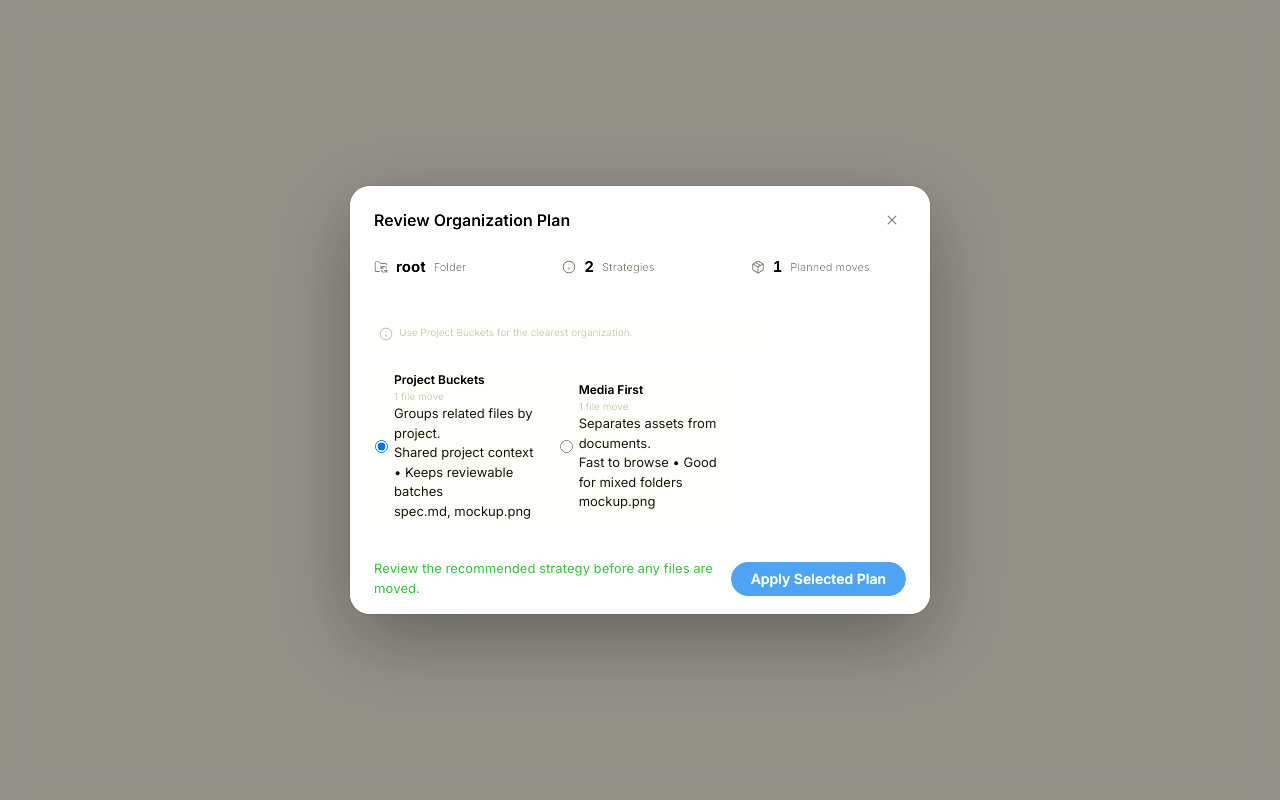
Test: OrganizeModal › surfaces partial apply results with warnings instead of claiming full success
Expected: the text "Project Buckets" is shown, [394,372,485,387]
Click the button "Apply Selected Plan" at {"x": 818, "y": 579}, box [731,562,906,596]
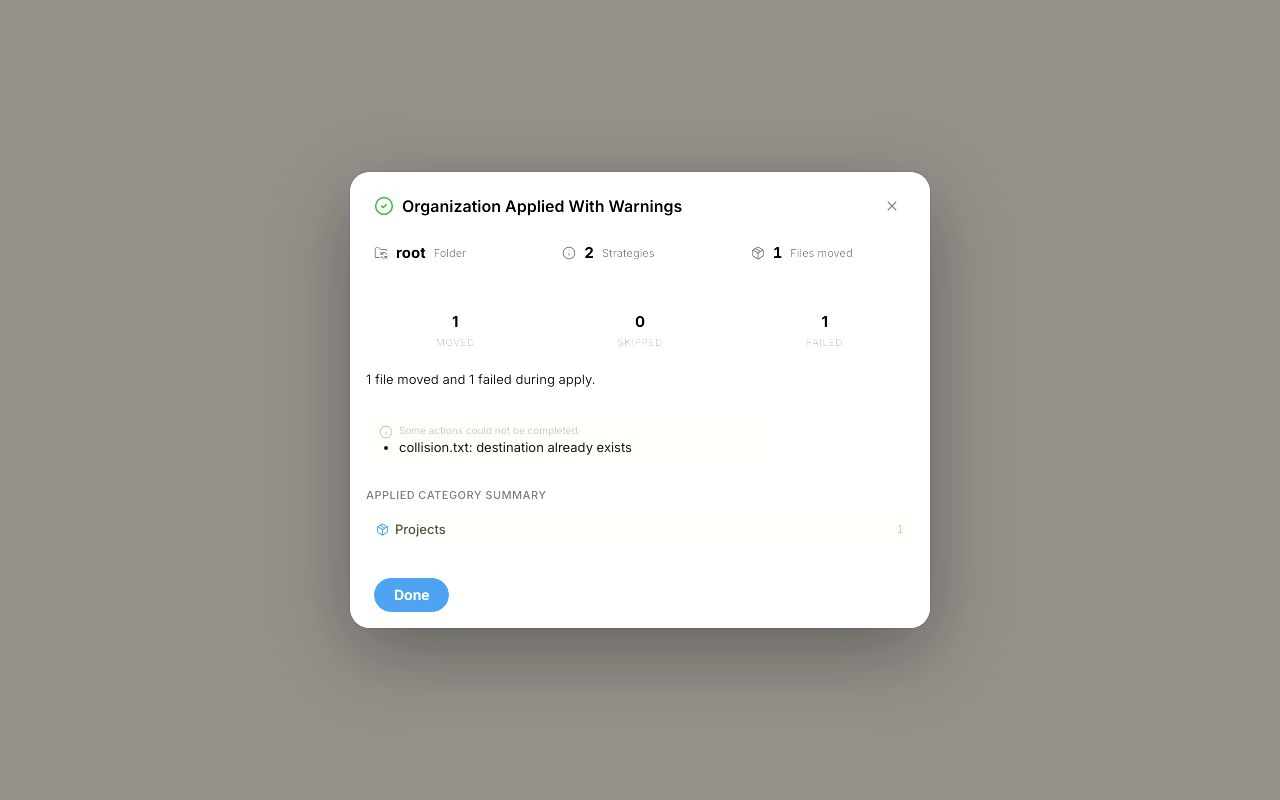
Result: the heading "Organization Applied With Warnings" is shown at [374,194,682,218]
Result: the text "1 file moved and 1 failed during apply." is shown at [366,371,596,387]
Result: the list item "collision.txt: destination already exists" is shown at [399,438,632,457]
